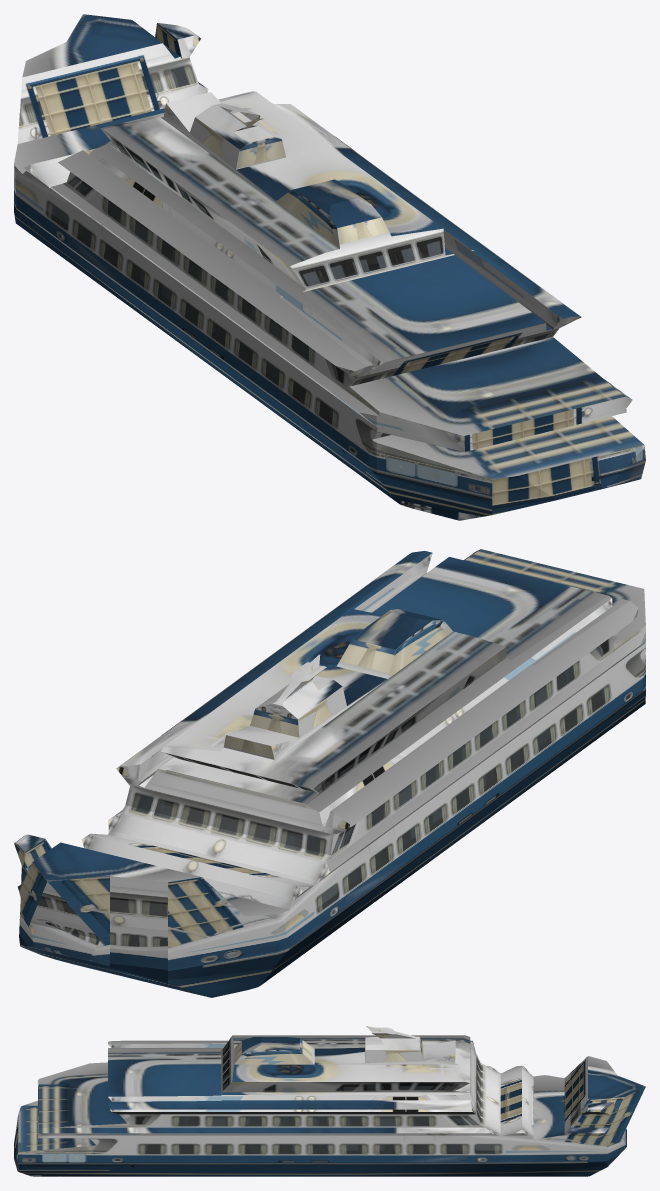
File: ferry.glb
3 views of the same model, one above another, from view 1: azimuth 30°, elevation 25°; view 2: azimuth 150°, elevation 25°; view 3: azimuth 270°, elevation 25° (orthographic). The views are drawn at different scales.
Visible parts, largest first — view 1: ferry; view 2: ferry; view 3: ferry.
Part boxes in pixels (left/top/right/bottom): ferry: left=14, top=14, right=645, bottom=520; ferry: left=14, top=549, right=645, bottom=997; ferry: left=14, top=1026, right=645, bottom=1176.
Size of the model in its own units: 11.98 by 9.75 by 44.77.
Materials: 2 (1 with a texture image).
